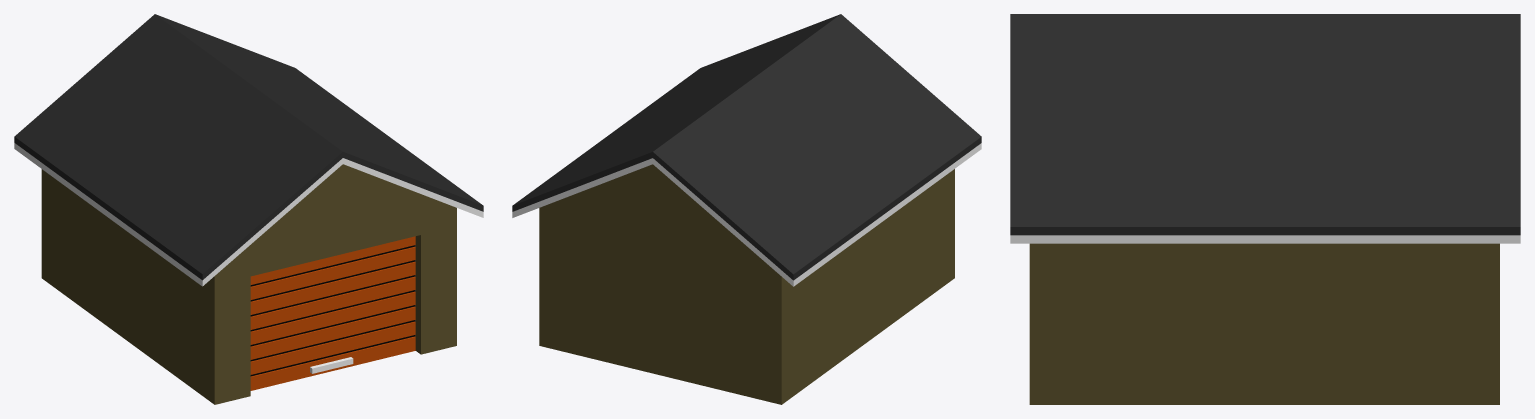
File: Garage-01c.fbx
3 views of the same model, side by side, from view 1: azimuth 30°, elevation 25°; view 2: azimuth 150°, elevation 25°; view 3: azimuth 270°, elevation 25° (orthographic). The views are drawn at different scales.
Visible parts, largest first — view 1: Garage-01; view 2: Garage-01; view 3: Garage-01.
Boxes of the visible parts, x1,y1,x2,y2 form: Garage-01: (14, 14, 483, 404); Garage-01: (512, 14, 981, 404); Garage-01: (1010, 14, 1520, 404).
Size of what is drawn, in the model's own units: 6.24 by 4.86 by 7.24.
